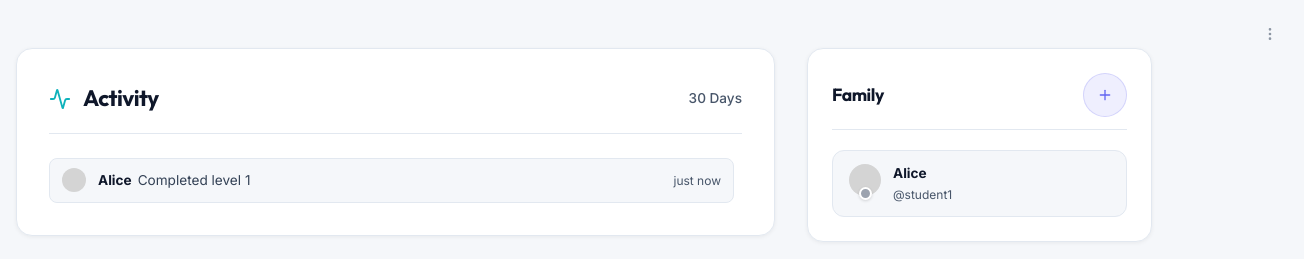
Test: ParentDashboard Component › keyboard and screen reader access › closes the options menu on Escape
The width and height of the screenshot is (1304, 259).
Step 1. Click the button named "Options for Alice" → (1270, 34), box [1248, 12, 1292, 56]
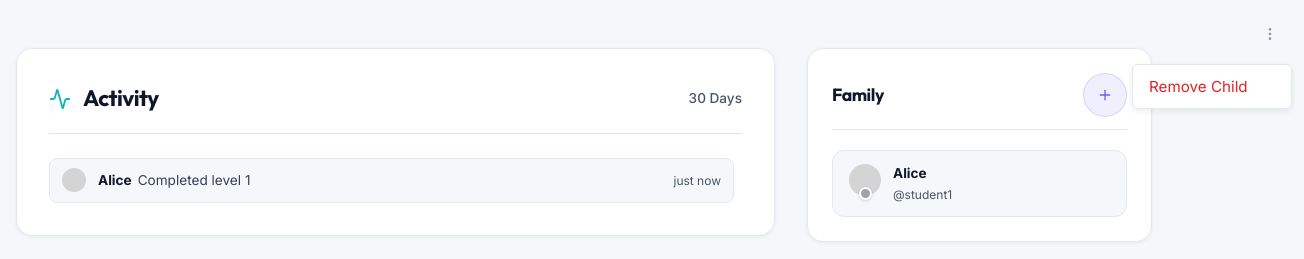
Step 2. Press Escape
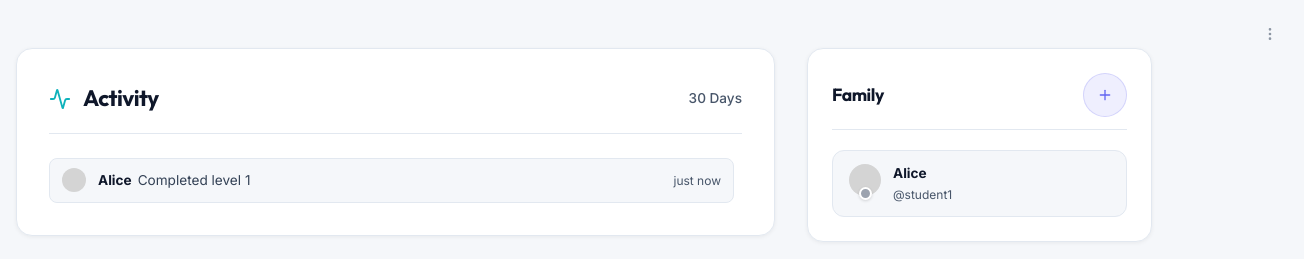
Expected: the element with class "child-menu-dropdown" is gone
